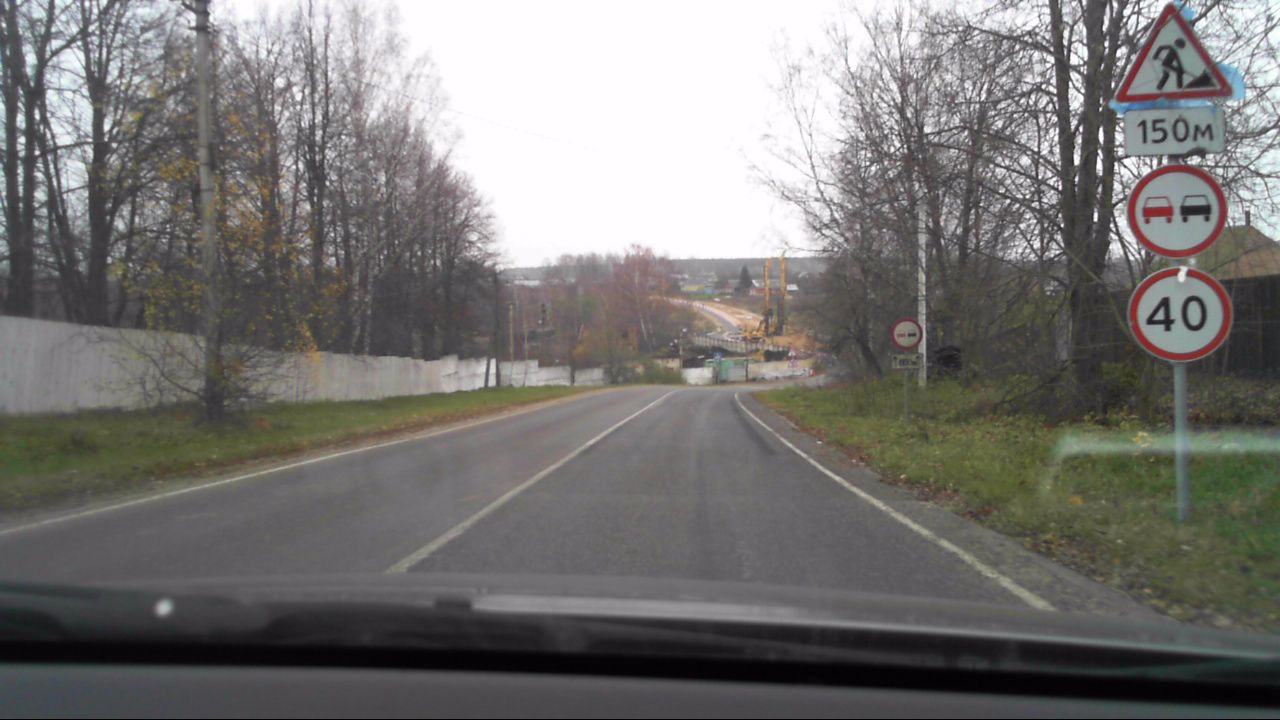speed_warning_40: (1125, 265, 1236, 366)
